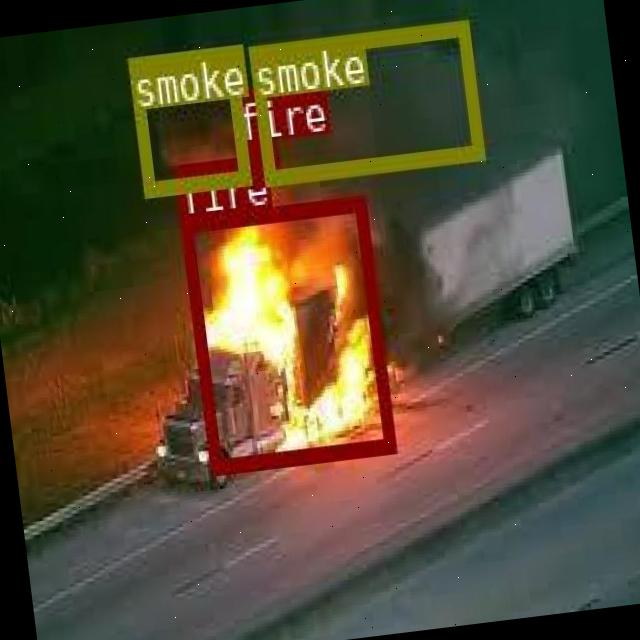fire: (178, 195, 394, 474), (237, 138, 277, 186)
smoke: (247, 19, 482, 184), (126, 43, 250, 194)
